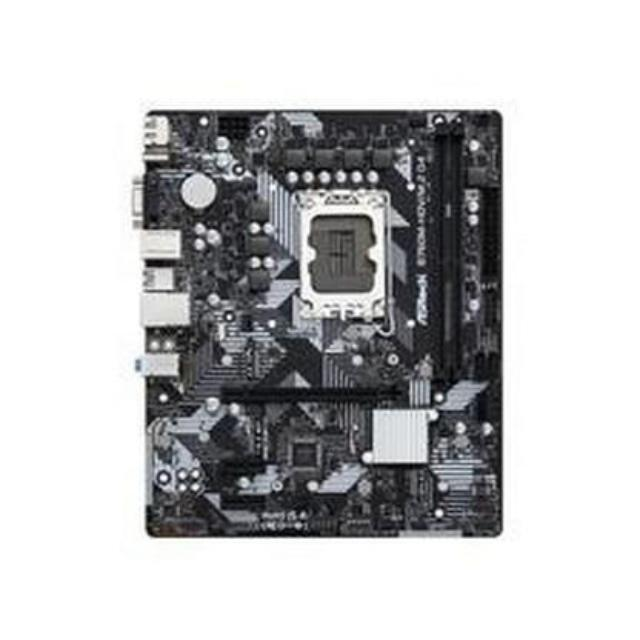Mainboard: (126, 103, 514, 548)
